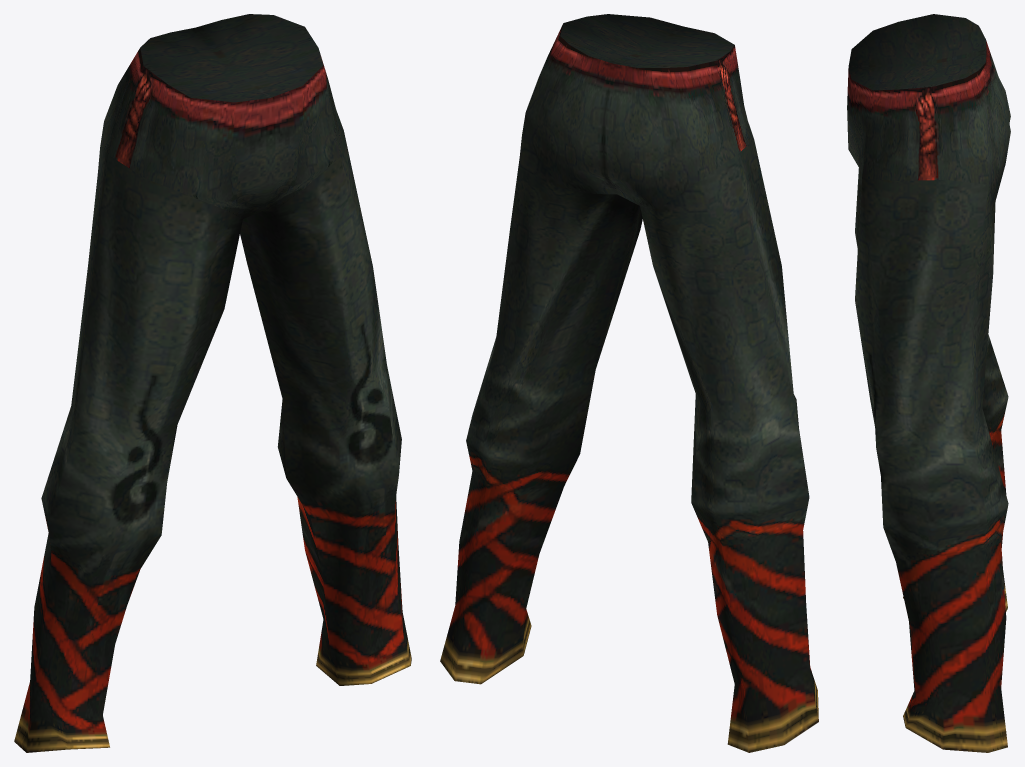
3 views of the same model, side by side, from view 1: azimuth 30°, elevation 25°; view 2: azimuth 150°, elevation 25°; view 3: azimuth 270°, elevation 25° (orthographic). The views are drawn at different scales.
Parts seen in each view (by area): view 1: clothes_03_la; view 2: clothes_03_la; view 3: clothes_03_la.
Part boxes in pixels (x1,y1,x2,y2): clothes_03_la: [14, 14, 411, 752]; clothes_03_la: [440, 14, 818, 752]; clothes_03_la: [847, 14, 1010, 752].
Size of the model in its own units: 0.6507 by 1.1 by 0.2594.
Materials: 1 (1 with a texture image).
